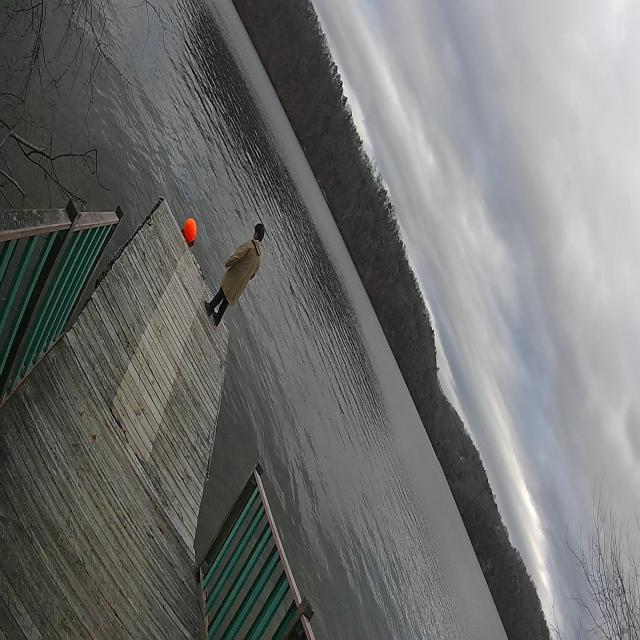Buoy: (181, 213, 200, 247)
